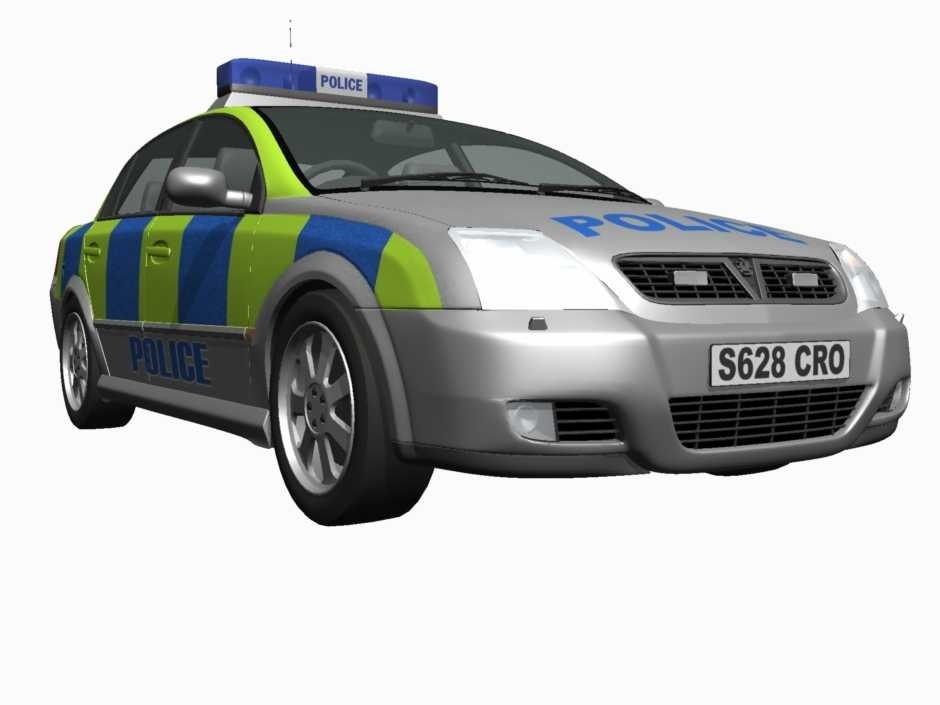Police Car: (65, 71, 940, 598)
